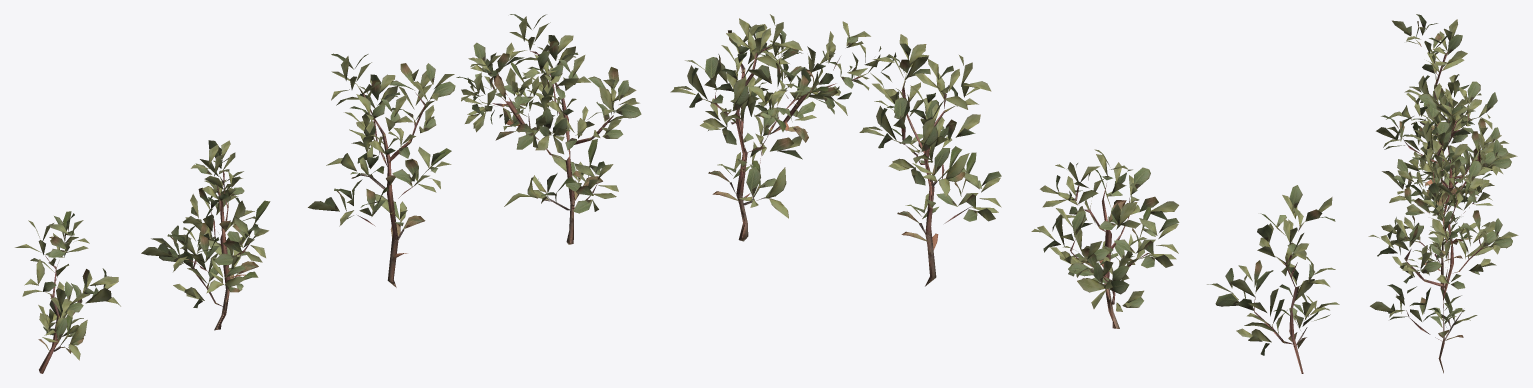
Rendered from shrub_04.glb.
The picture shows the model from 3 angles, left to right: view 1: azimuth 30°, elevation 25°; view 2: azimuth 150°, elevation 25°; view 3: azimuth 270°, elevation 25°; orthographic projection. The views are drawn at different scales.
Parts seen in each view (by area): view 1: shrub_04; view 2: shrub_04; view 3: shrub_04.
Boxes of the visible parts, left/top/right/bottom form: shrub_04: left=15, top=14, right=641, bottom=373; shrub_04: left=670, top=14, right=1339, bottom=373; shrub_04: left=1368, top=14, right=1518, bottom=373.
Bounding box in the file's own units: 0.5837 × 0.2185 × 0.1461.
1 material, 1 textured.
